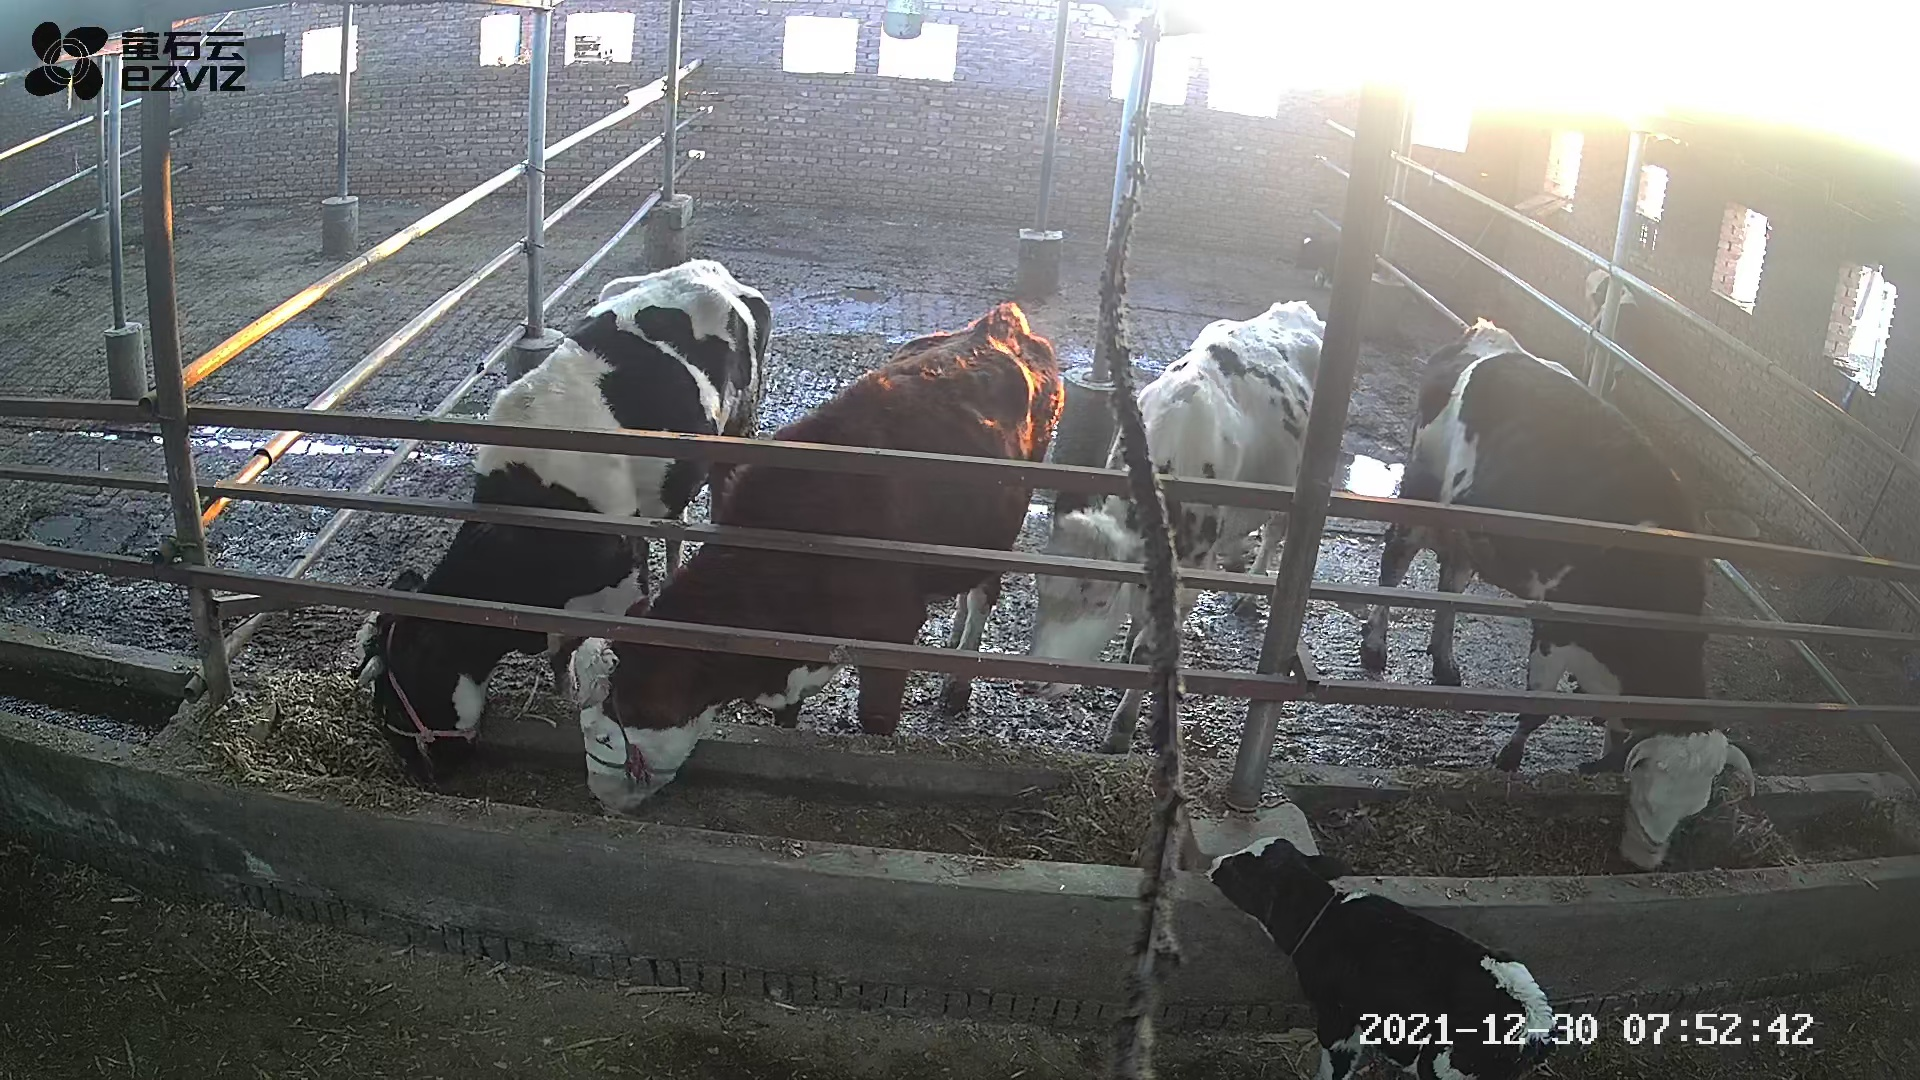cow: (574, 301, 1065, 820), (1356, 315, 1774, 873), (349, 257, 773, 786), (1022, 301, 1327, 764)
